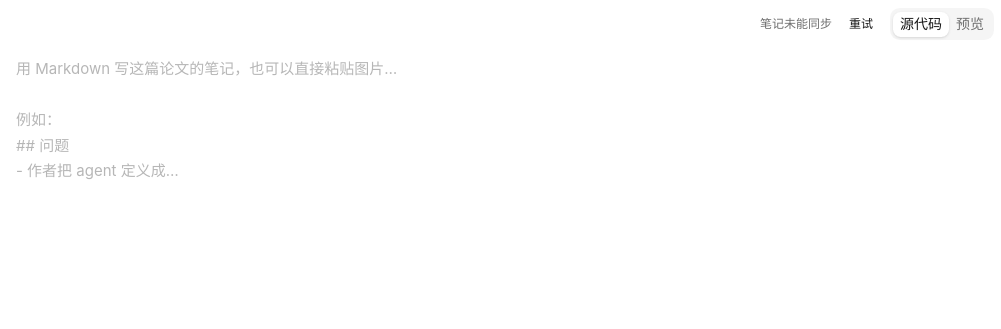
it: does not replace an existing note when the initial read fails
expect the text box with placeholder "用 Markdown 写这篇论文的笔记，也可以直接粘贴图片… 例如： ## 问题 - 作者把 agent 定义成…" is disabled: met, box [16,56,720,312]
Click the button "重试" at (861, 24), box [840,12,882,36]
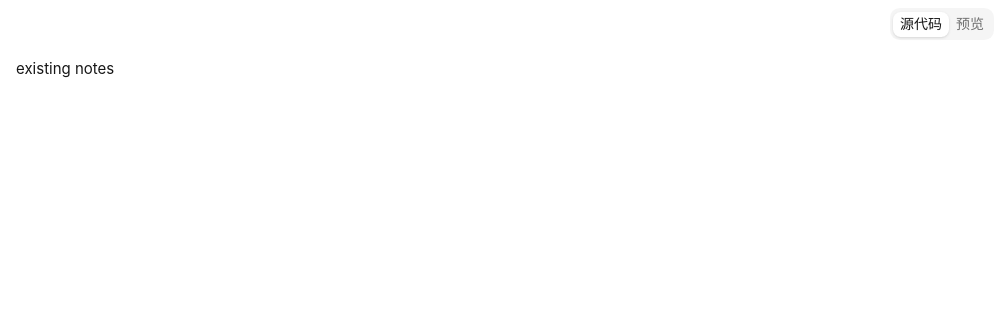
expect the text box named "论文笔记" is enabled: met, box [16,56,720,312]
expect the text box named "论文笔记" holds "existing notes": met, box [16,56,720,312]
